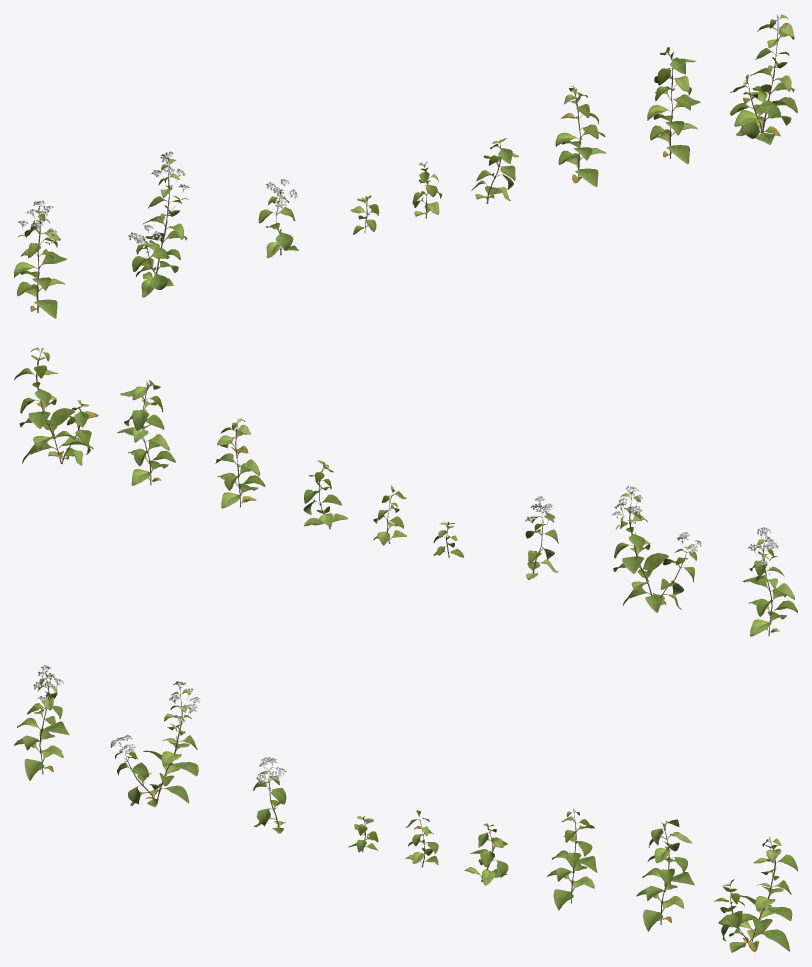
The model's file is shrub_01_lod2.glb.
3 renders of one model, top to bottom at view 1: azimuth 30°, elevation 25°; view 2: azimuth 150°, elevation 25°; view 3: azimuth 330°, elevation 25°, orthographic. The views are drawn at different scales.
Parts seen in each view (by area): view 1: shrub_01_a; view 2: shrub_01_a; view 3: shrub_01_a.
Boxes of the visible parts, <box> form: shrub_01_a: <box>14,14,797,318</box>; shrub_01_a: <box>14,347,797,636</box>; shrub_01_a: <box>14,665,797,952</box>.
Bounding box in the file's own units: 2.59 × 0.3956 × 0.2181.
Materials: 1 (1 with a texture image).
